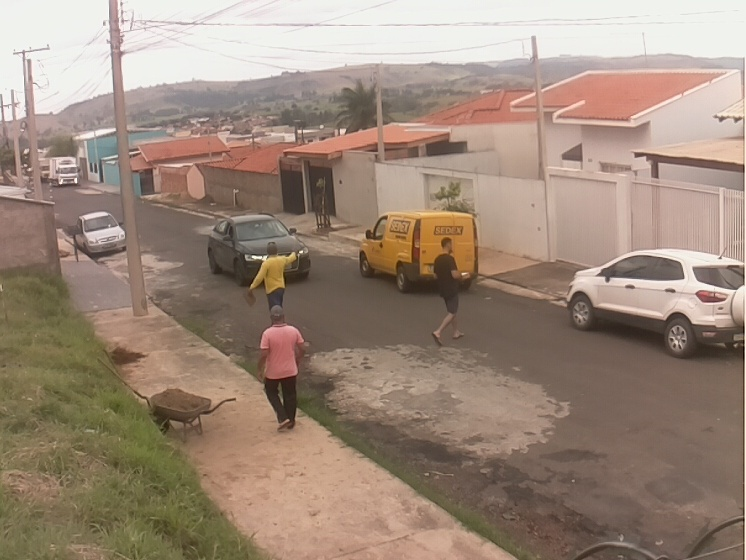person: (255, 304, 307, 434), (431, 237, 468, 347), (247, 241, 301, 310)
